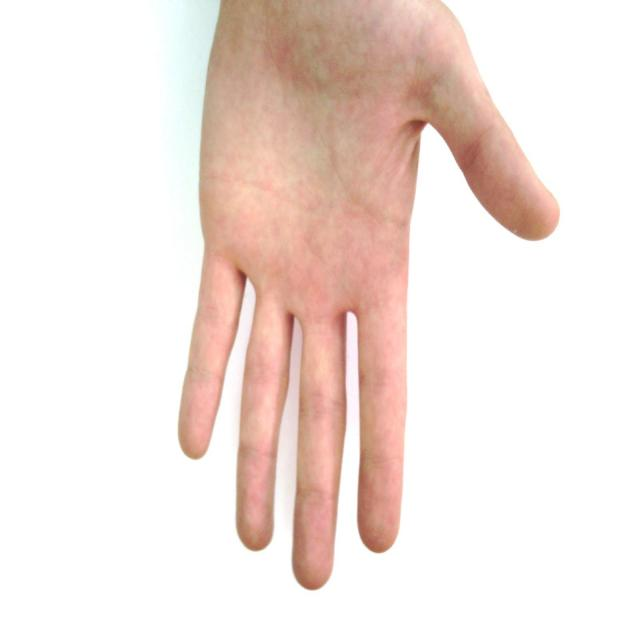others: (170, 1, 564, 590)
